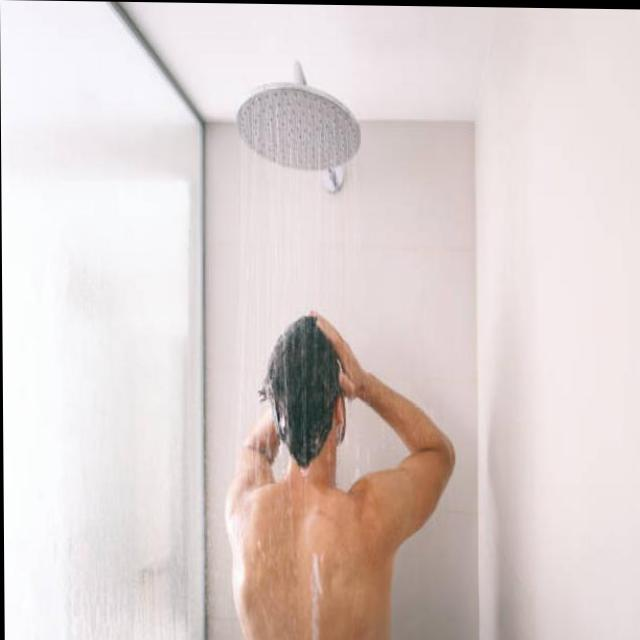no helmet: (260, 306, 376, 476)
